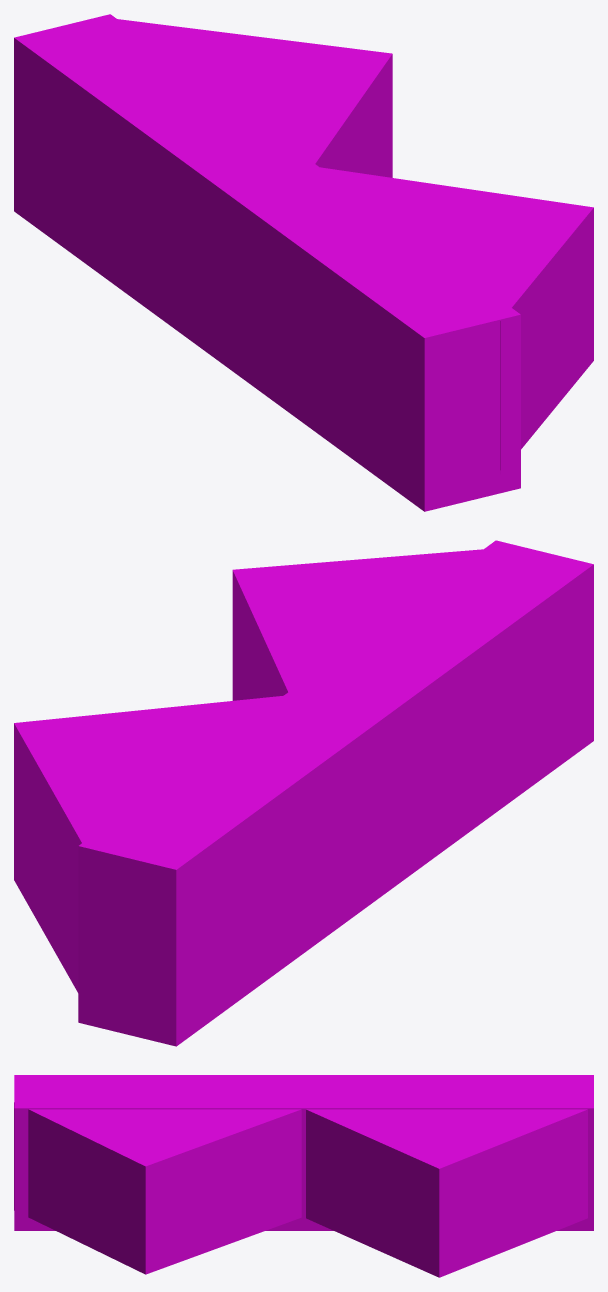
Rendered from Rune4NoStone.fbx.
The picture shows the model from 3 angles, top to bottom: view 1: azimuth 30°, elevation 25°; view 2: azimuth 150°, elevation 25°; view 3: azimuth 270°, elevation 25°; orthographic projection. The views are drawn at different scales.
Parts seen in each view (by area): view 1: Cube, Cube.001, Cube.003; view 2: Cube, Cube.003, Cube.001; view 3: Cube.003, Cube.001, Cube.
Part boxes in pixels (x1,y1,x2,y2): Cube: [14, 14, 520, 511]; Cube.001: [320, 167, 593, 473]; Cube.003: [117, 19, 392, 177]; Cube: [78, 540, 593, 1046]; Cube.003: [14, 695, 283, 992]; Cube.001: [232, 549, 482, 700]; Cube.003: [306, 1109, 587, 1277]; Cube.001: [14, 1102, 301, 1274]; Cube: [14, 1075, 593, 1230].
Bounding box in the file's own units: 65.56 × 40.42 × 173.
